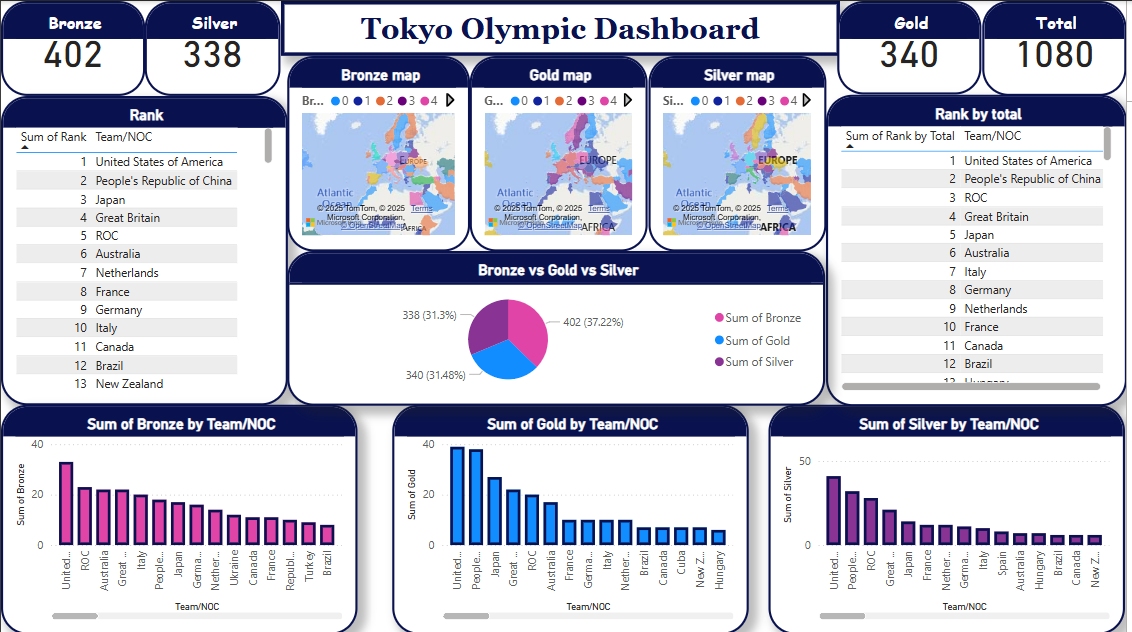

What the dashboard file says about the page in this screenshot:
{"tool":"powerbi","page":{"name":"Page 1","canvas":[1280,720],"ordinal":0},"visuals":[{"type":"shape","box":[318,0,636,62],"z":0},{"type":"qnaVisual","title":"Questions","box":[477,459.2,299,261.6],"z":1000},{"type":"card","title":"Bronze","fields":{"Values":["Sum(Tokyo Olympic Data (Tokyo Olympic).Bronze)"]},"box":[0,0,164,108],"z":2000},{"type":"card","title":"Gold","fields":{"Values":["Sum(Tokyo Olympic Data (Tokyo Olympic).Gold)"]},"box":[952,0,164,106],"z":3000},{"type":"card","title":"Silver","fields":{"Values":["Sum(Tokyo Olympic Data (Tokyo Olympic).Silver)"]},"box":[164,0,154,108],"z":4000},{"type":"tableEx","title":"Rank ","fields":{"Values":["Sum(Tokyo Olympic Data (Tokyo Olympic).Rank)","Tokyo Olympic.Team/NOC"]},"box":[0,108,326,352],"z":5000},{"type":"columnChart","fields":{"Category":["Tokyo Olympic Data (Tokyo Olympic).Team/NOC"],"Y":["Sum(Tokyo Olympic Data (Tokyo Olympic).Bronze)"]},"box":[0,459.2,405.8,261.6],"z":6000},{"type":"columnChart","fields":{"Category":["Tokyo Olympic.Team/NOC"],"Y":["Sum(Tokyo Olympic Data (Tokyo Olympic).Gold)"]},"box":[444.9,459.2,405.8,261.6],"z":7000},{"type":"columnChart","fields":{"Category":["Tokyo Olympic.Team/NOC"],"Y":["Sum(Tokyo Olympic Data (Tokyo Olympic).Silver)"]},"box":[873.9,459.2,405.8,261.6],"z":8000},{"type":"tableEx","title":"Rank by total","fields":{"Values":["Sum(Tokyo Olympic Data (Tokyo Olympic).Rank by Total)","Tokyo Olympic.Team/NOC"]},"box":[938,106,342,354],"z":9000},{"type":"pieChart","title":"Bronze vs Gold vs Silver","fields":{"Y":["Sum(Tokyo Olympic Data (Tokyo Olympic).Bronze)","Sum(Tokyo Olympic Data (Tokyo Olympic).Gold)","Sum(Tokyo Olympic Data (Tokyo Olympic).Silver)"]},"box":[326,284,612,176],"z":10000},{"type":"card","title":"Total","fields":{"Values":["Sum(Tokyo Olympic Data (Tokyo Olympic).Total)"]},"box":[1116,0,164,108],"z":11000},{"type":"filledMap","title":"Bronze map","fields":{"Category":["Tokyo Olympic Data (Tokyo Olympic).Team/NOC"],"Series":["Tokyo Olympic Data (Tokyo Olympic).Bronze"]},"box":[326,62,208,222],"z":12000},{"type":"filledMap","title":"Gold map","fields":{"Category":["Tokyo Olympic Data (Tokyo Olympic).Team/NOC"],"Series":["Tokyo Olympic Data (Tokyo Olympic).Gold"]},"box":[534,62,202,222],"z":13000},{"type":"filledMap","title":"Silver map","fields":{"Category":["Tokyo Olympic Data (Tokyo Olympic).Team/NOC"],"Series":["Tokyo Olympic Data (Tokyo Olympic).Silver"]},"box":[736,62,202,222],"z":14000}]}

Visuals, with their boxes in screenshot pixels (x1, y1, x2, y2), scaled from the page's 1280x720 canvas onto the 1132x632 screenshot:
shape: 281 0 844 54
"Questions" qnaVisual: 422 403 686 631
"Bronze" card: 0 0 145 95
"Gold" card: 842 0 987 93
"Silver" card: 145 0 281 95
"Rank " tableEx: 0 95 288 404
columnChart - Tokyo Olympic Data (Tokyo Olympic).Team/NOC x Sum(Tokyo Olympic Data (Tokyo Olympic).Bronze): 0 403 359 631
columnChart - Tokyo Olympic.Team/NOC x Sum(Tokyo Olympic Data (Tokyo Olympic).Gold): 393 403 752 631
columnChart - Tokyo Olympic.Team/NOC x Sum(Tokyo Olympic Data (Tokyo Olympic).Silver): 773 403 1131 631
"Rank by total" tableEx: 830 93 1131 404
"Bronze vs Gold vs Silver" pieChart: 288 249 830 404
"Total" card: 987 0 1131 95
"Bronze map" filledMap: 288 54 472 249
"Gold map" filledMap: 472 54 651 249
"Silver map" filledMap: 651 54 830 249
